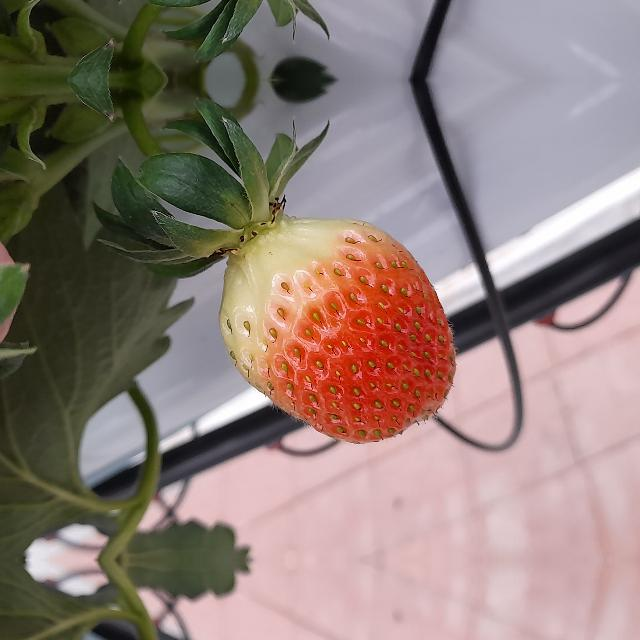Health_100: (218, 216, 456, 444)
